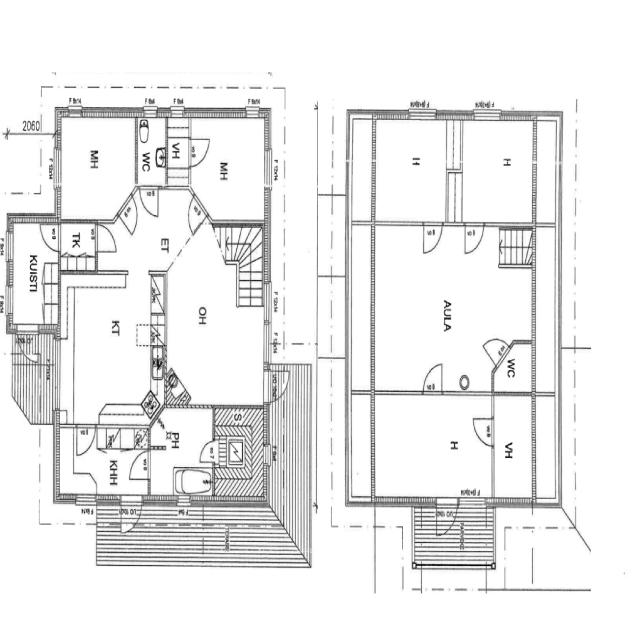door: (420, 359, 446, 396), (119, 497, 144, 535), (436, 497, 459, 538), (470, 413, 496, 448), (463, 220, 486, 257), (421, 219, 444, 256), (138, 184, 161, 220), (127, 448, 151, 482), (75, 422, 97, 459), (95, 221, 118, 255), (189, 136, 211, 168), (40, 221, 62, 253), (268, 368, 287, 404), (198, 438, 215, 464)
window: (260, 293, 273, 369), (374, 382, 424, 401), (375, 216, 423, 232), (261, 145, 274, 192), (52, 143, 64, 193), (406, 107, 438, 124), (471, 108, 502, 123), (4, 283, 16, 321), (4, 228, 16, 264), (174, 492, 193, 512), (66, 105, 83, 119), (168, 105, 186, 117), (245, 105, 261, 118), (142, 104, 158, 117)
zone: (373, 222, 534, 394), (160, 187, 266, 408), (60, 276, 163, 422), (374, 392, 493, 503), (458, 117, 549, 226), (370, 118, 461, 223), (54, 114, 137, 222), (190, 117, 268, 223), (9, 220, 59, 331), (492, 393, 534, 503), (136, 115, 167, 187), (493, 340, 534, 392), (59, 220, 97, 273), (504, 527, 533, 589), (167, 114, 191, 188)
